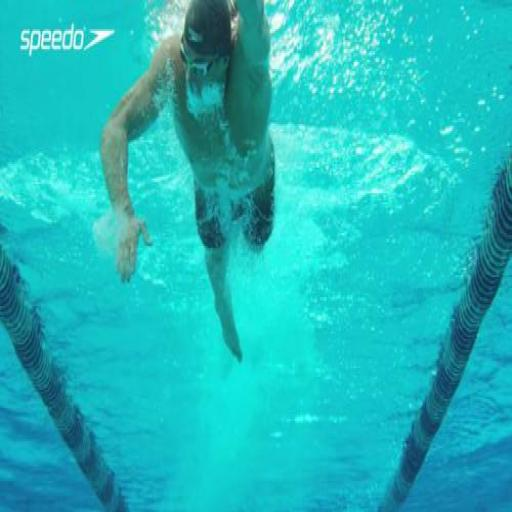swimming: (98, 0, 278, 368)
